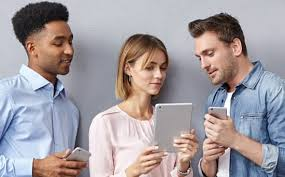person: (11, 1, 76, 76), (188, 11, 244, 86), (119, 34, 169, 97)
